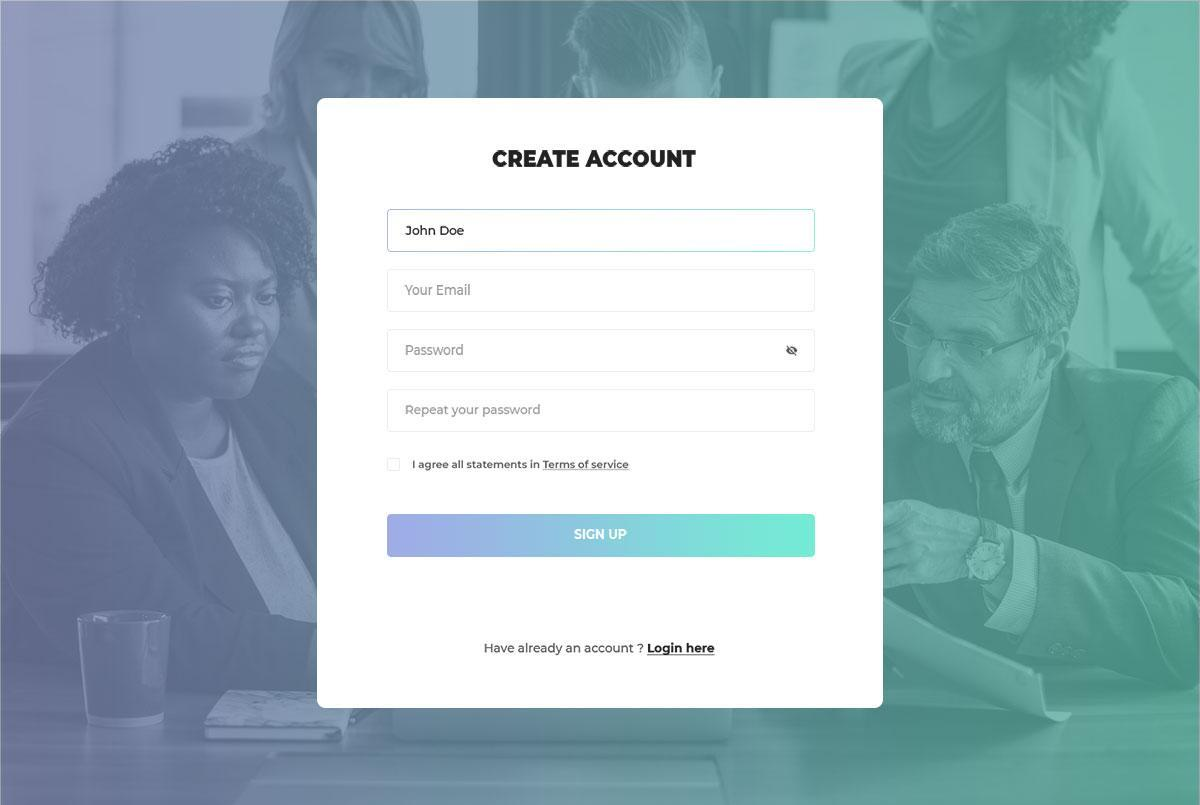button: (387, 512, 820, 560)
checkbox: (385, 455, 404, 474)
input: (386, 325, 818, 376), (386, 388, 816, 436), (386, 269, 820, 315), (386, 208, 819, 254)
label: (408, 457, 632, 473)
